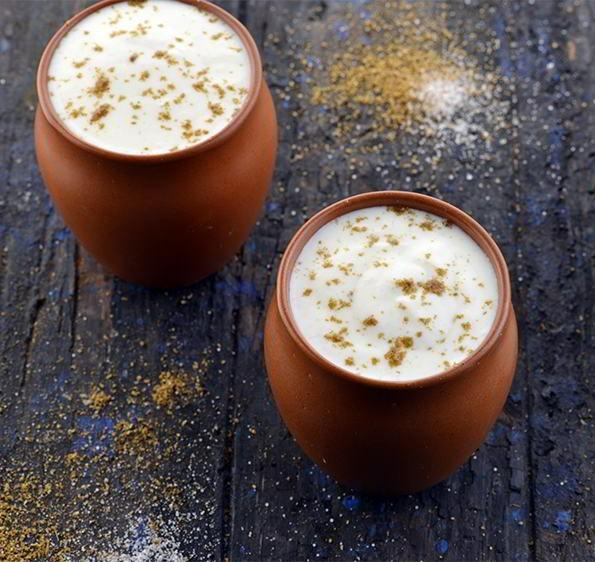Lassi: (290, 203, 500, 381), (47, 2, 252, 155)
